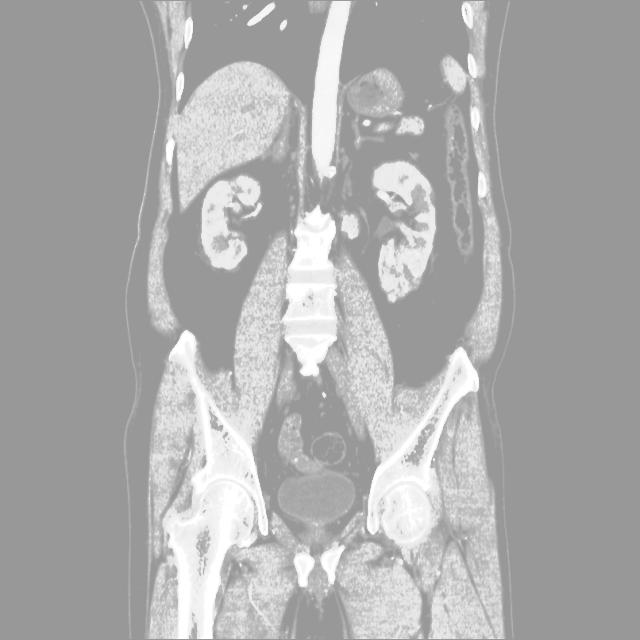TUMOR: (145, 77, 473, 331)
